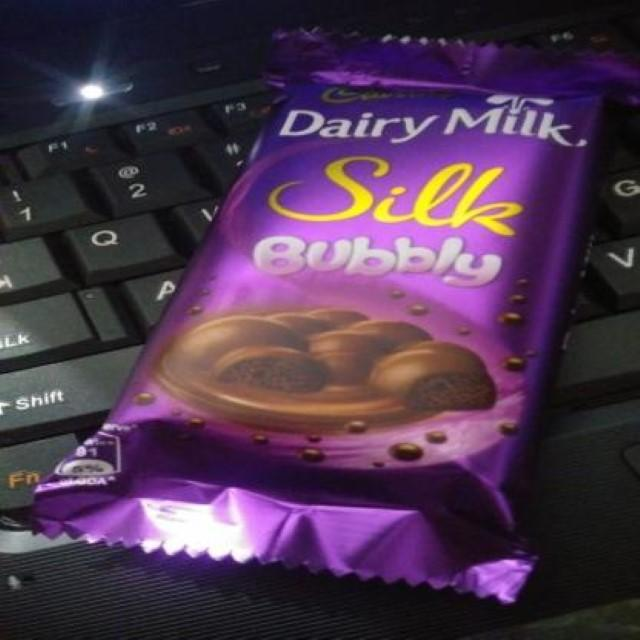cadbury_chocolate: (58, 45, 612, 583)
